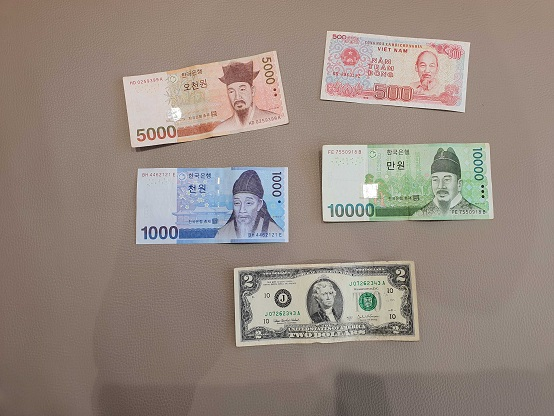10000won: (321, 141, 496, 223)
1000won: (135, 166, 290, 245)
2dollar: (232, 261, 421, 347)
5000won: (122, 49, 289, 148)
500vnd: (321, 29, 471, 113)
